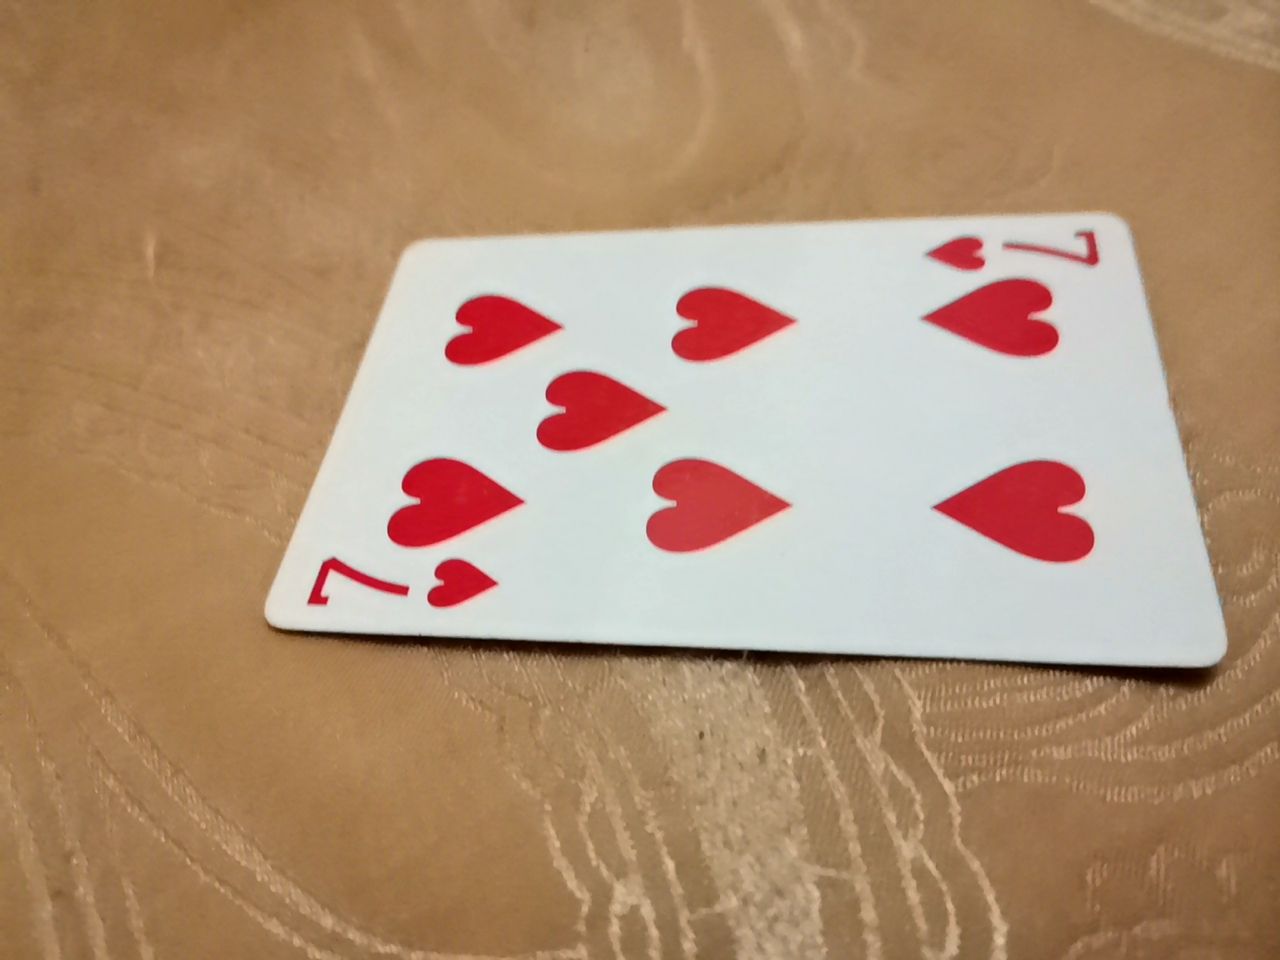hx 7: (293, 185, 1233, 651)
